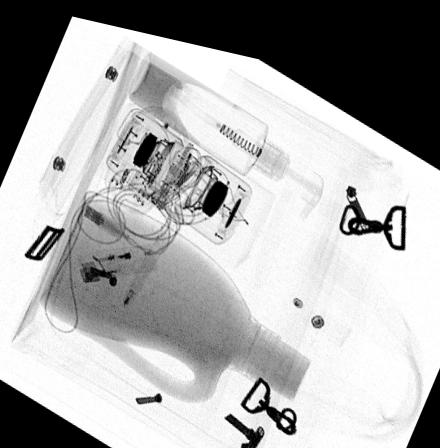Lighter: (75, 235, 159, 278)
